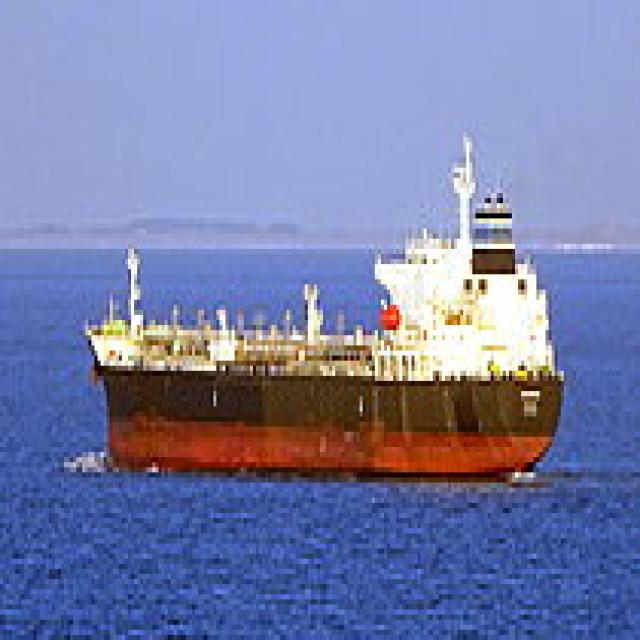Tanker: (76, 127, 564, 472)
